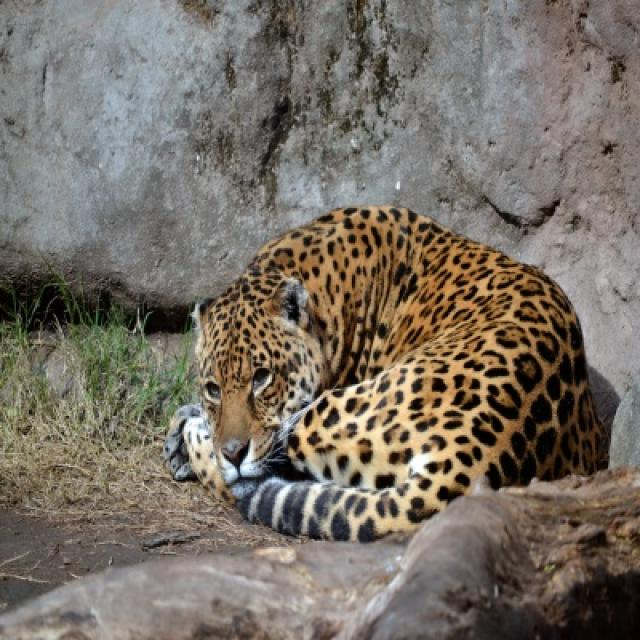Jaguar: (165, 206, 610, 546)
